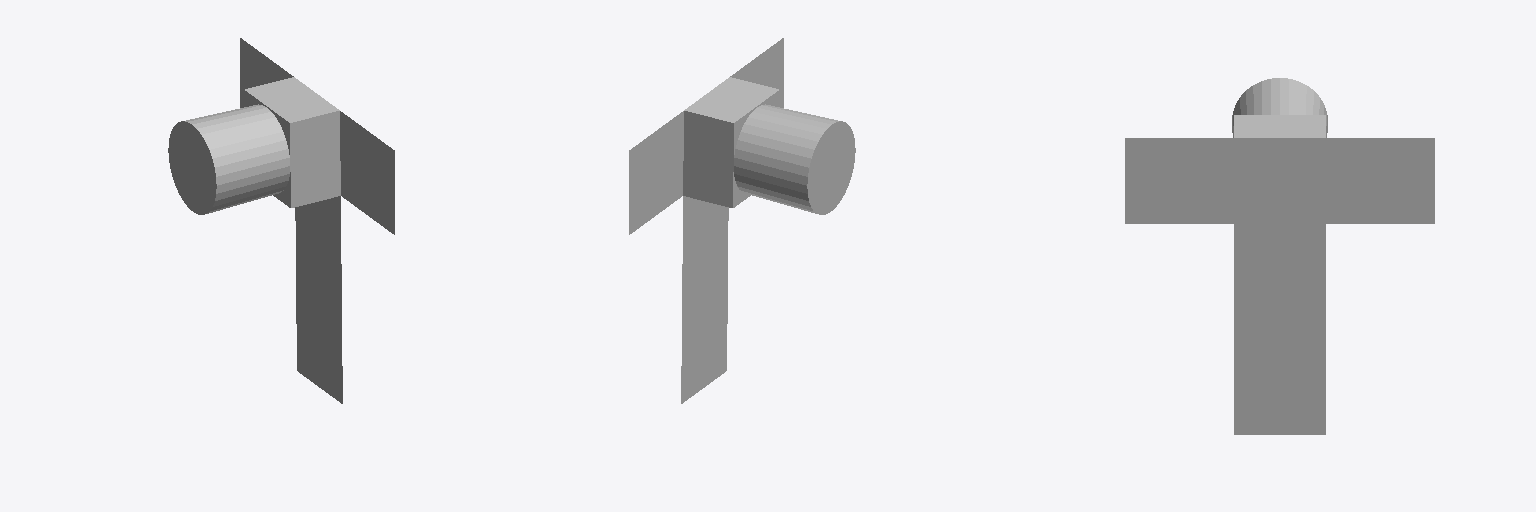
File: straight_combined_LAMP_backward_weird.obj
3 renders of one model, left to right at view 1: azimuth 30°, elevation 25°; view 2: azimuth 150°, elevation 25°; view 3: azimuth 270°, elevation 25°, orthographic.
Visible parts, largest first — view 1: 27U_combined_case_straight_solar.001; view 2: 27U_combined_case_straight_solar.001; view 3: 27U_combined_case_straight_solar.001.
Part boxes in pixels (left/top/right/bottom): 27U_combined_case_straight_solar.001: left=168, top=38, right=394, bottom=403; 27U_combined_case_straight_solar.001: left=629, top=38, right=855, bottom=403; 27U_combined_case_straight_solar.001: left=1125, top=78, right=1434, bottom=434.
Size of the model in its own units: 0.5626 by 1.24 by 1.18.